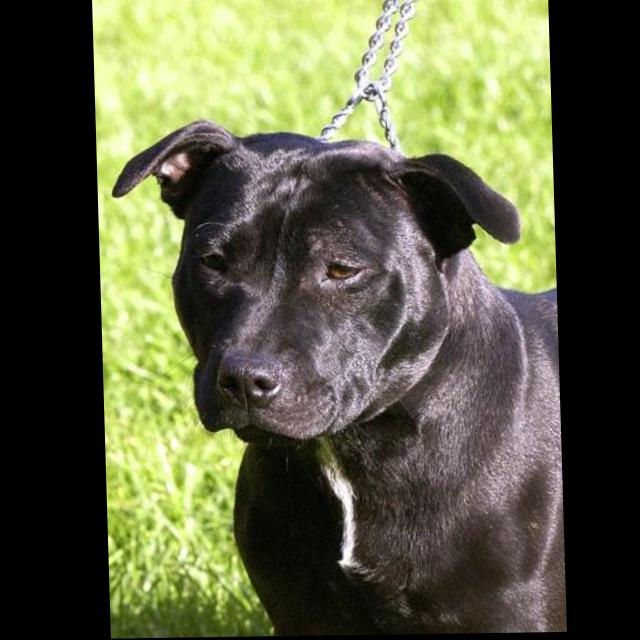staffford: (110, 115, 564, 640)
